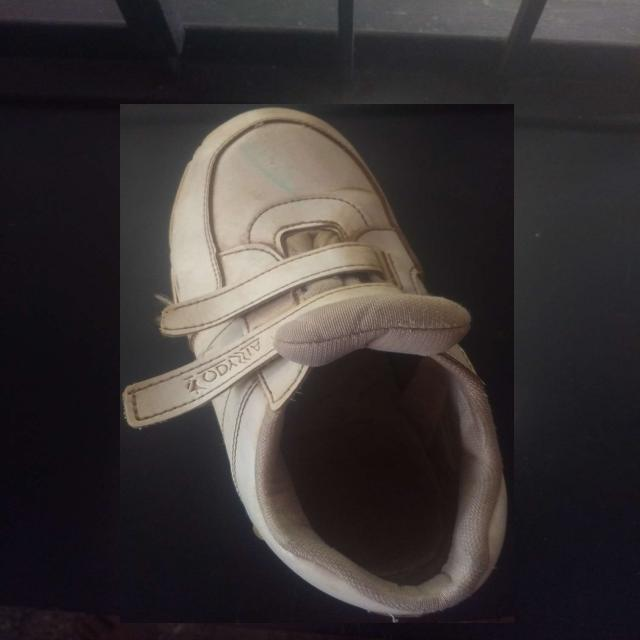shoes: (120, 104, 514, 623)
